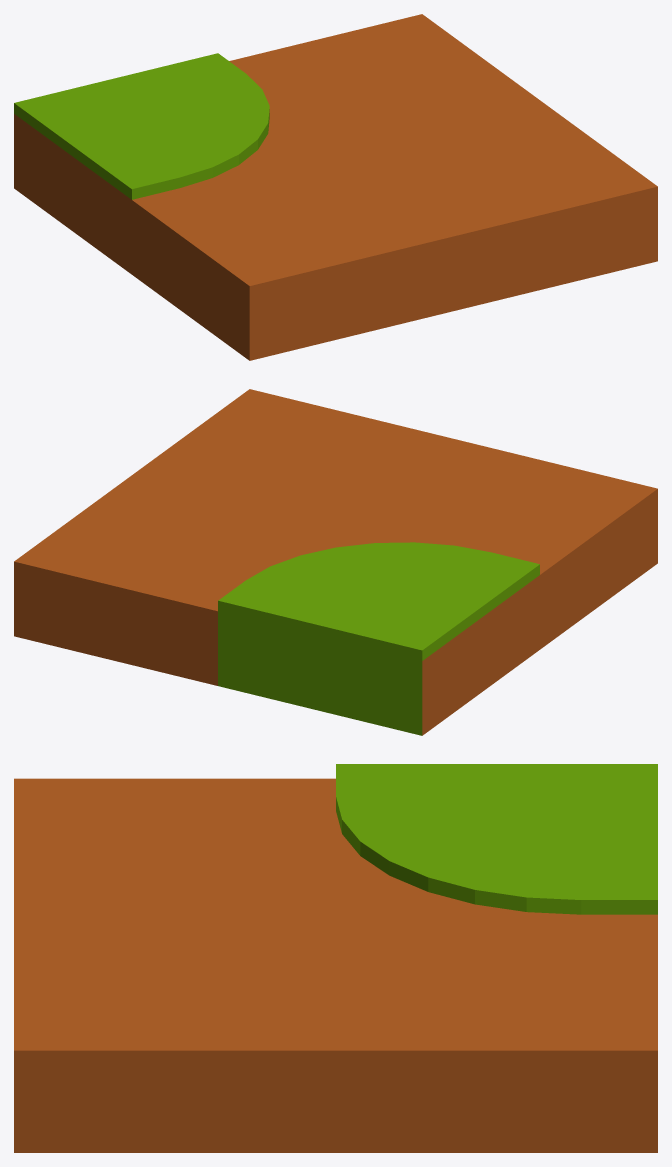
Rendered from TileGround_29.fbx.
The picture shows the model from 3 angles, top to bottom: view 1: azimuth 30°, elevation 25°; view 2: azimuth 150°, elevation 25°; view 3: azimuth 270°, elevation 25°; orthographic projection. The views are drawn at different scales.
Visible parts, largest first — view 1: TileGround_29; view 2: TileGround_29; view 3: TileGround_29.
Part boxes in pixels (<box>): TileGround_29: <box>14,14,657,360</box>; TileGround_29: <box>14,389,657,735</box>; TileGround_29: <box>14,764,657,1152</box>.
Size of the model in its own units: 500 by 100 by 500.
